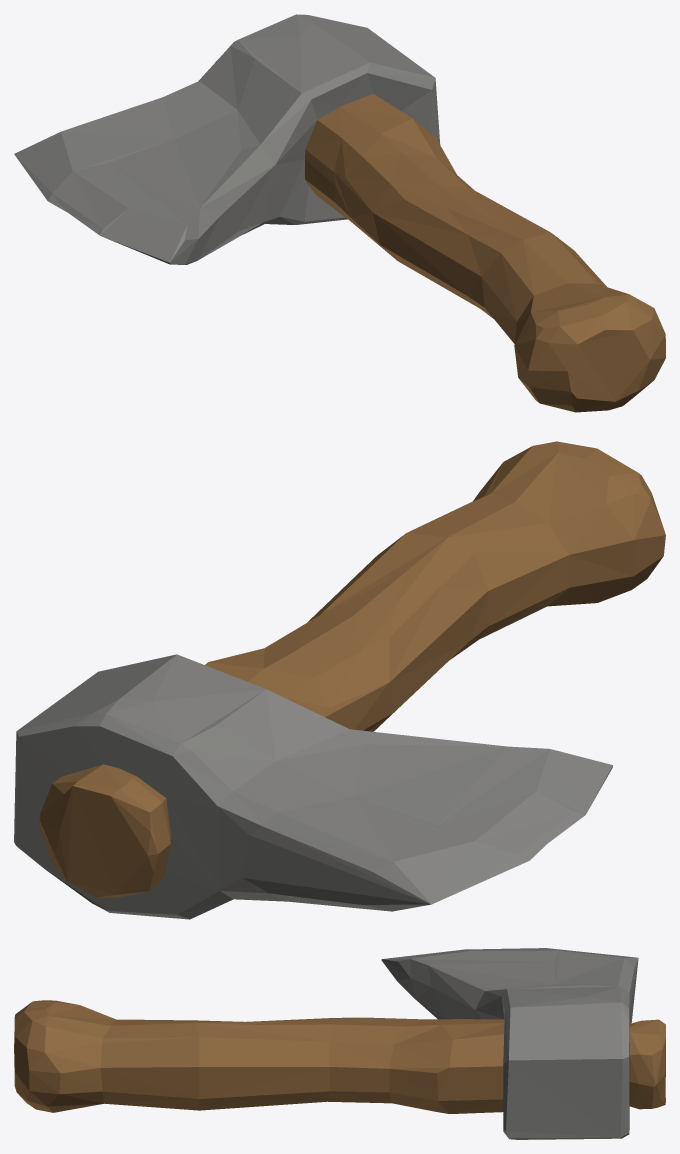
The model's file is WoodcuttingHatchet.fbx.
The picture shows the model from 3 angles, top to bottom: view 1: azimuth 30°, elevation 25°; view 2: azimuth 150°, elevation 25°; view 3: azimuth 270°, elevation 25°; orthographic projection. The views are drawn at different scales.
Parts seen in each view (by area): view 1: WoodcuttingHatchet; view 2: WoodcuttingHatchet; view 3: WoodcuttingHatchet.
Part boxes in pixels (left/top/right/bottom): WoodcuttingHatchet: left=14, top=14, right=665, bottom=412; WoodcuttingHatchet: left=14, top=441, right=665, bottom=919; WoodcuttingHatchet: left=14, top=948, right=665, bottom=1139.
Bounding box in the file's own units: 0.269 × 0.4793 × 0.1111.
